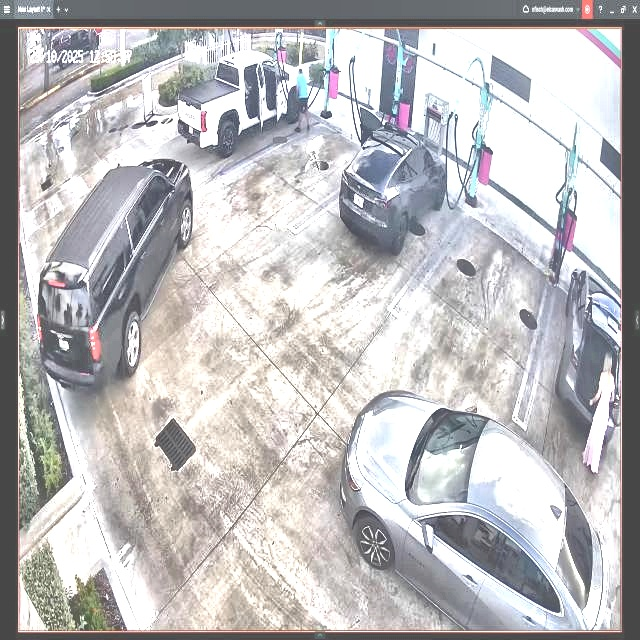Car: (348, 389, 612, 632), (39, 159, 193, 390), (338, 111, 447, 255), (179, 52, 307, 155)
